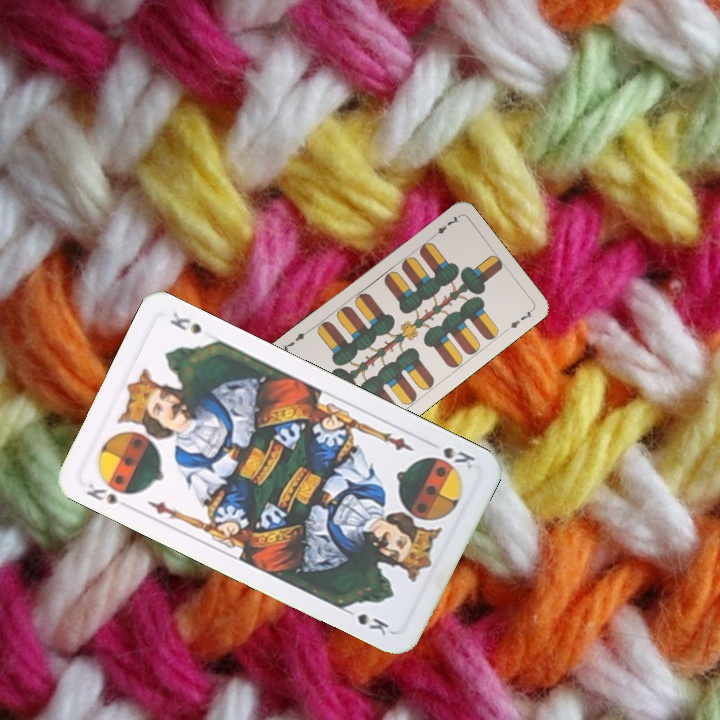E7: (426, 212, 462, 241)
SK: (81, 474, 137, 512), (423, 437, 478, 472)
